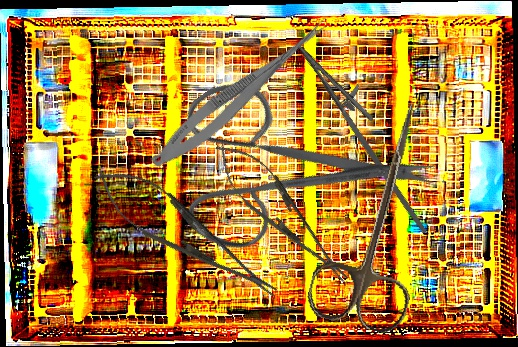Iris Scissors: (133, 6, 446, 314), (303, 90, 456, 338)
Micro Scissor: (144, 5, 337, 178)
Needle Holder: (276, 32, 461, 235), (81, 152, 291, 316), (202, 129, 362, 297)
